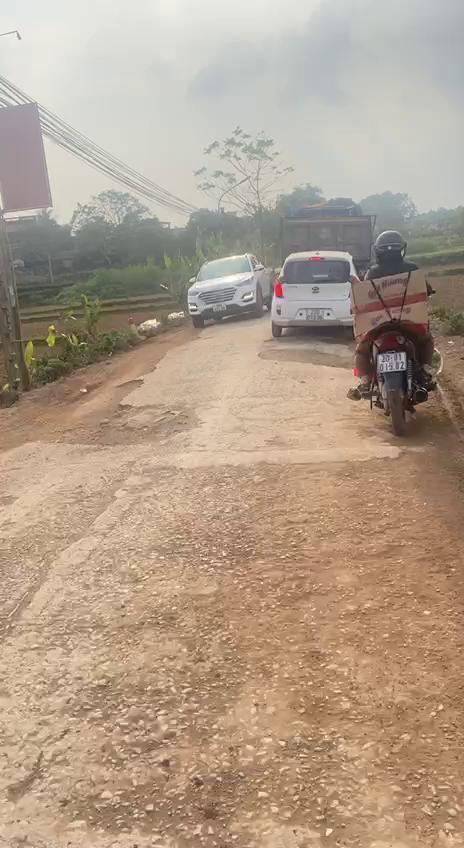pothole: (57, 751, 373, 848), (32, 378, 206, 450), (256, 344, 358, 370)
